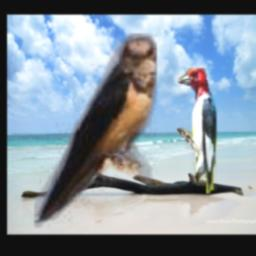Swallow: (35, 34, 158, 228)
Woodpecker: (178, 69, 218, 195)
